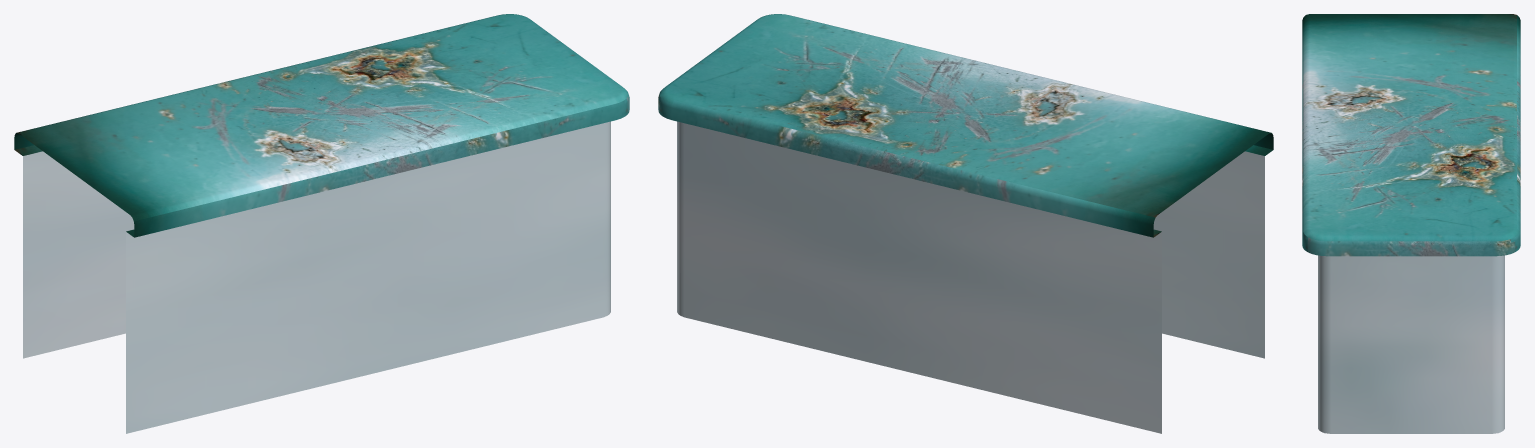
The model's file is JDTablepot.fbx.
3 views of the same model, side by side, from view 1: azimuth 30°, elevation 25°; view 2: azimuth 150°, elevation 25°; view 3: azimuth 270°, elevation 25° (orthographic). The views are drawn at different scales.
Parts seen in each view (by area): view 1: Cube.001; view 2: Cube.001; view 3: Cube.001.
Part boxes in pixels (x1,y1,x2,y2): Cube.001: [14, 14, 629, 433]; Cube.001: [658, 14, 1273, 433]; Cube.001: [1302, 14, 1520, 433].
Bounding box in the file's own units: 88.65 × 37.23 × 36.45.
